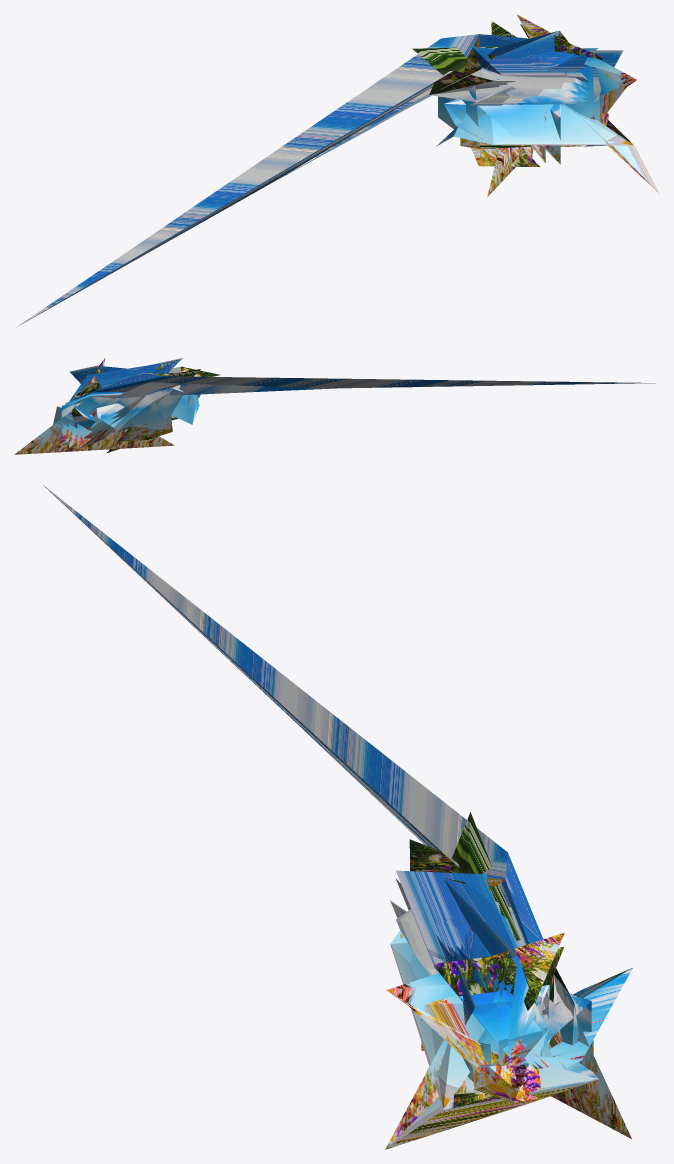
Rendered from flor10.gltf.
3 renders of one model, top to bottom at view 1: azimuth 30°, elevation 25°; view 2: azimuth 150°, elevation 25°; view 3: azimuth 270°, elevation 25°, orthographic. The views are drawn at different scales.
Visible parts, largest first — view 1: Cylinder; view 2: Cylinder; view 3: Cylinder.
Part boxes in pixels (box(x1,y1,x2,y2)): Cylinder: box(16, 14, 659, 327); Cylinder: box(14, 358, 655, 454); Cylinder: box(42, 484, 632, 1149).
Bounding box in the file's own units: 26.38 × 5.33 × 13.59.
1 material, 1 textured.
